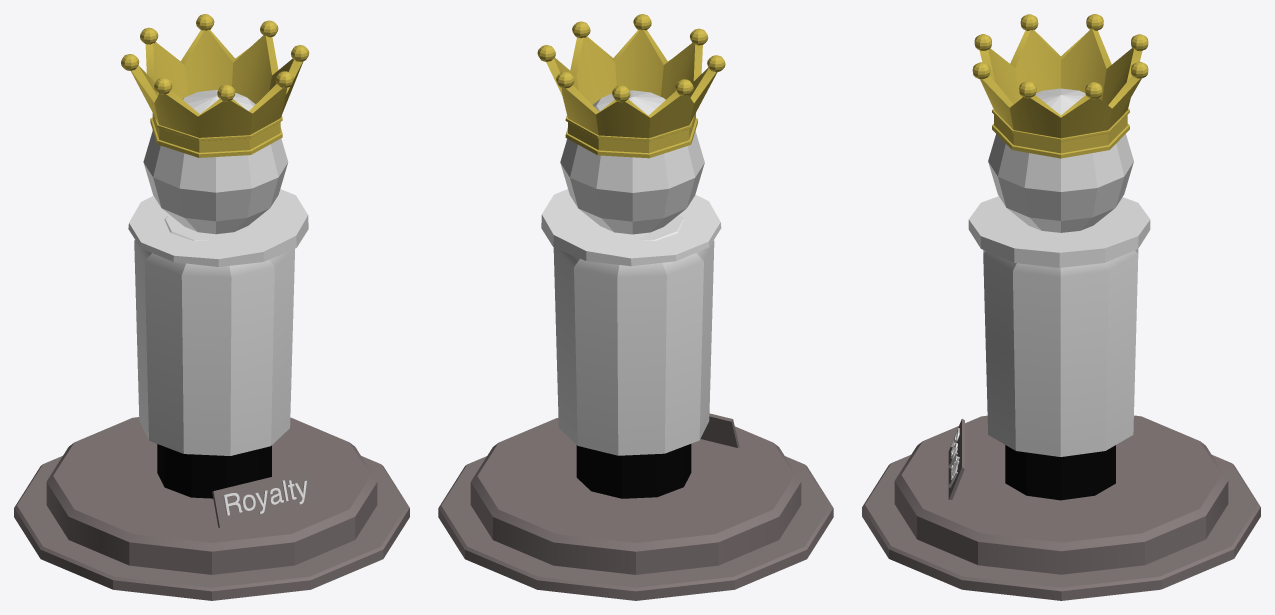
The model's file is royalty.fbx.
The picture shows the model from 3 angles, left to right: view 1: azimuth 30°, elevation 25°; view 2: azimuth 150°, elevation 25°; view 3: azimuth 270°, elevation 25°; orthographic projection.
Visible parts, largest first — view 1: pCylinder9, pCylinder13, pPipe4, pSphere3, pCylinder12, pCube15; view 2: pCylinder9, pCylinder13, pPipe4, pSphere3, pCylinder12, pCube15; view 3: pCylinder9, pCylinder13, pPipe4, pSphere3, pCylinder12, pCube15.
Part boxes in pixels (x1,y1,x2,y2): pCylinder9: (14, 417, 409, 600); pCylinder13: (134, 215, 294, 498); pPipe4: (131, 29, 303, 157); pSphere3: (143, 90, 288, 234); pCylinder12: (128, 189, 308, 266); pCube15: (212, 467, 318, 528); pCylinder9: (438, 418, 833, 600); pCylinder13: (553, 215, 714, 498); pPipe4: (546, 29, 717, 158); pSphere3: (560, 90, 704, 234); pCylinder12: (541, 189, 721, 266); pCube15: (700, 413, 739, 447); pCylinder9: (862, 415, 1260, 600); pCylinder13: (983, 249, 1138, 500); pPipe4: (979, 29, 1142, 158); pSphere3: (988, 88, 1133, 232); pCylinder12: (968, 196, 1150, 267); pCube15: (948, 419, 964, 499).
Size of the model in its own units: 10.26 by 13.34 by 10.26.
